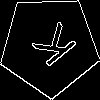K: (24, 20, 78, 75)
